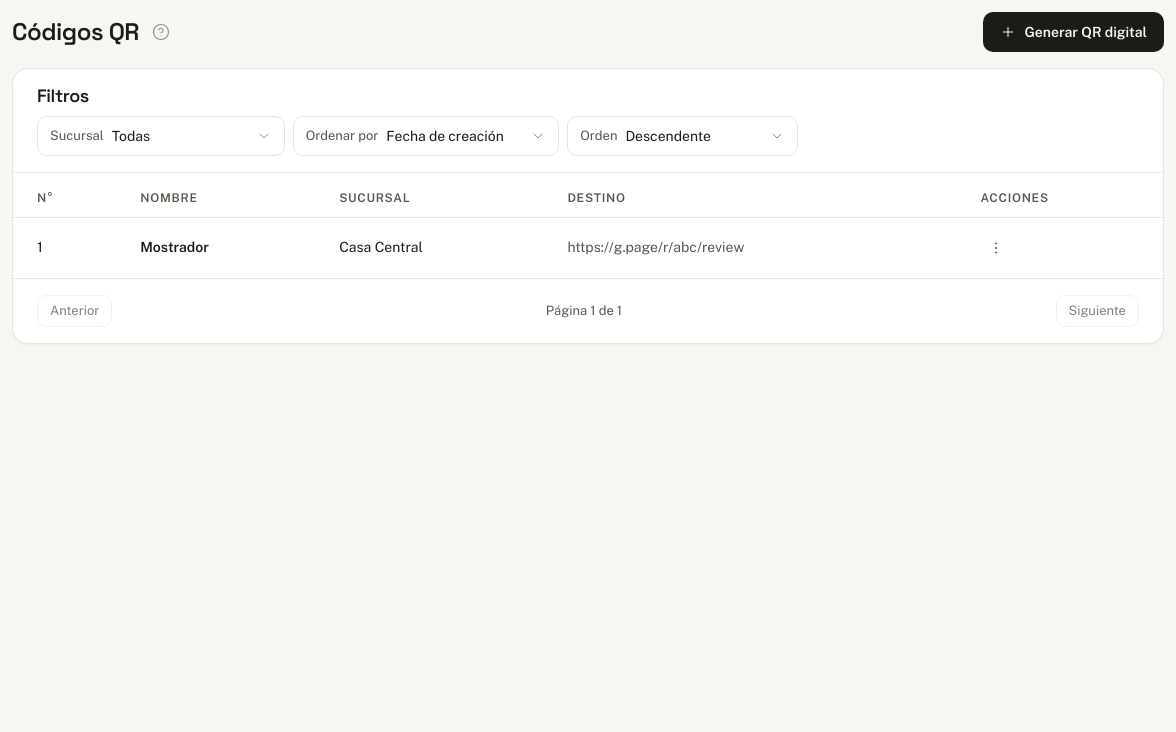
Scenario: QrListPage — copiar link › si el portapapeles falla, muestra el link para copiarlo a mano
Expected: the table is shown, [13,172,1163,278]
Click the button named "Más acciones": [996, 248] box [980,232,1012,264]
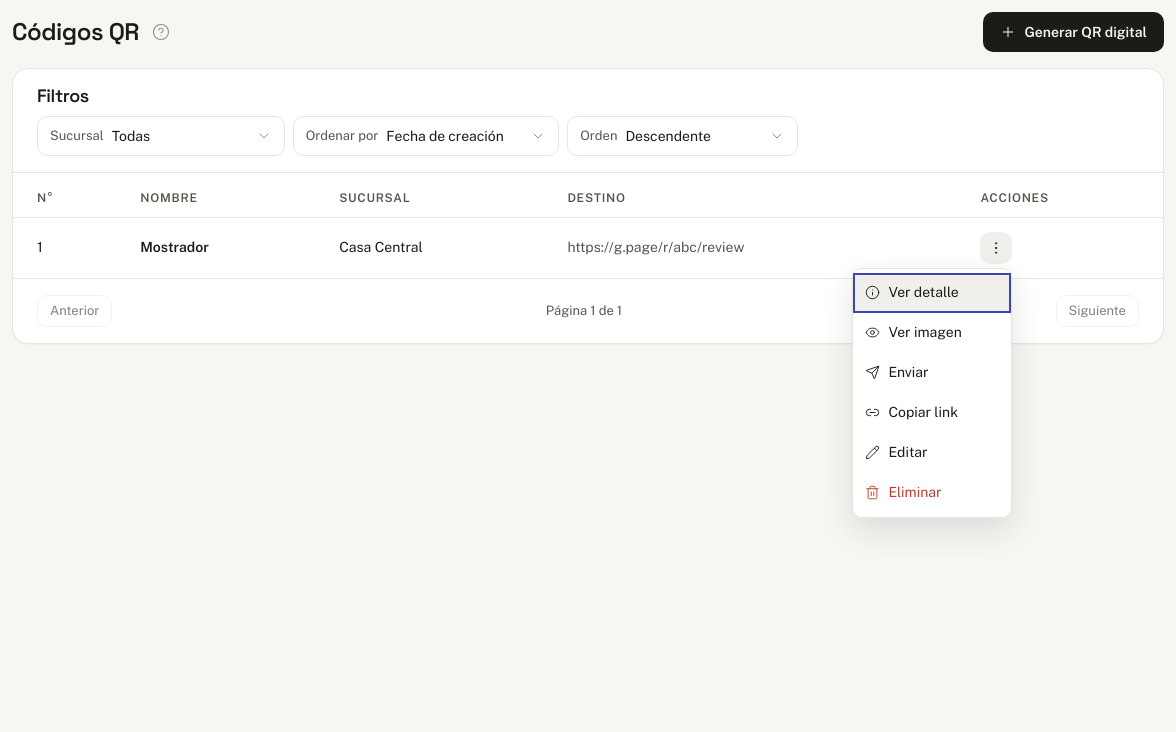
Click the menu item "Copiar link": [932, 412] box [853,392,1011,432]
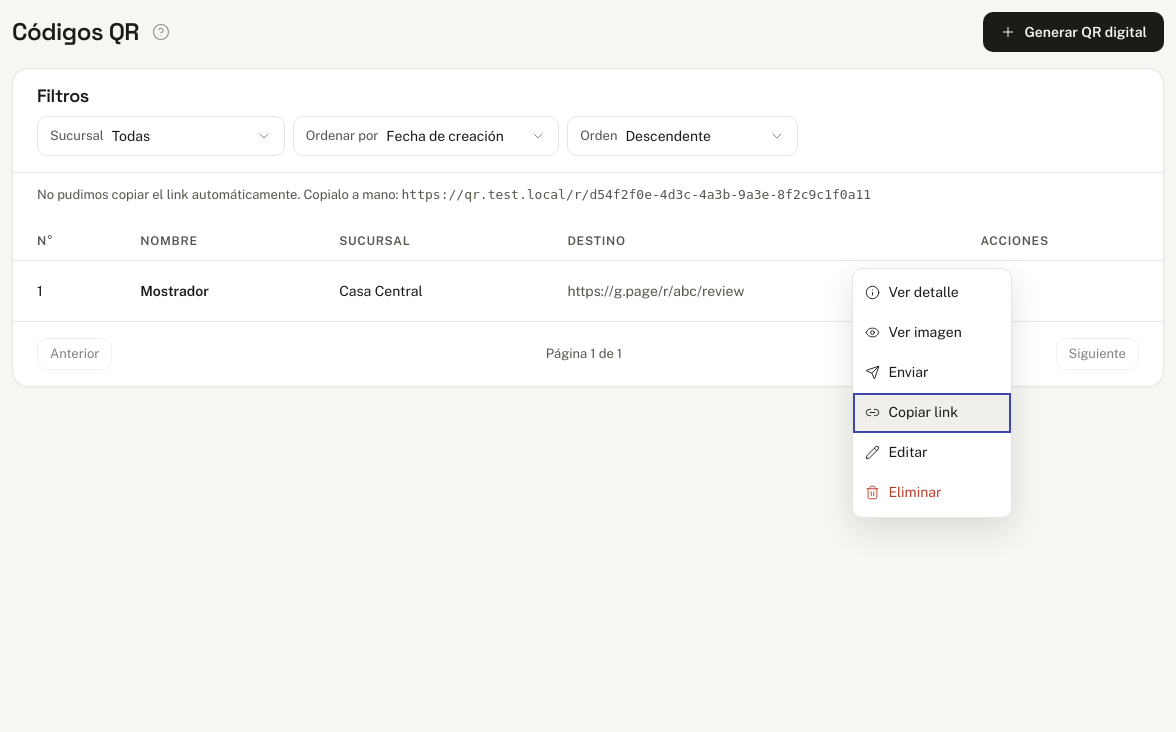
Expected: the text "Copialo a mano" is shown, [37,186,398,202]
